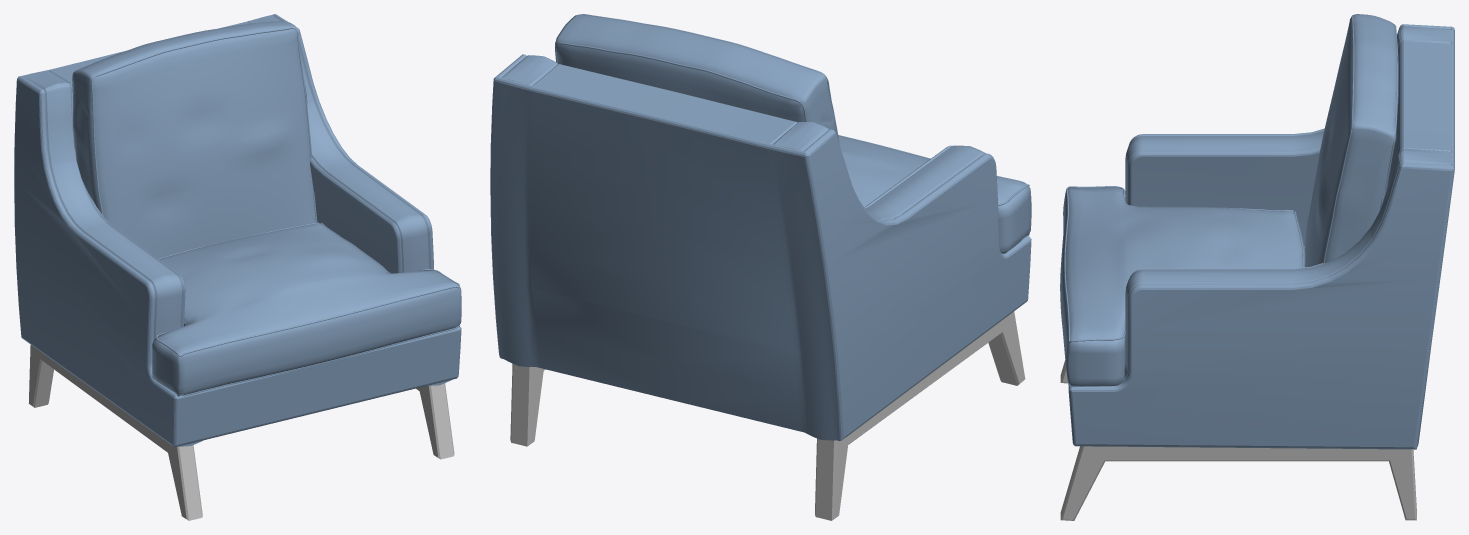
The picture shows the model from 3 angles, left to right: view 1: azimuth 30°, elevation 25°; view 2: azimuth 150°, elevation 25°; view 3: azimuth 270°, elevation 25°; orthographic projection. The views are drawn at different scales.
Parts seen in each view (by area): view 1: buffer-0-mesh-0_1_1, buffer-0-mesh-0_0; view 2: buffer-0-mesh-0_1_1, buffer-0-mesh-0_0; view 3: buffer-0-mesh-0_1_1, buffer-0-mesh-0_0.
Boxes of the visible parts, <box> form: buffer-0-mesh-0_1_1: <box>14,14,461,447</box>; buffer-0-mesh-0_0: <box>28,345,454,520</box>; buffer-0-mesh-0_1_1: <box>490,14,1031,440</box>; buffer-0-mesh-0_0: <box>510,311,1025,520</box>; buffer-0-mesh-0_1_1: <box>1060,14,1454,449</box>; buffer-0-mesh-0_0: <box>1060,360,1416,520</box>.
Bounding box in the file's own units: 0.5888 × 0.6782 × 0.6204.
